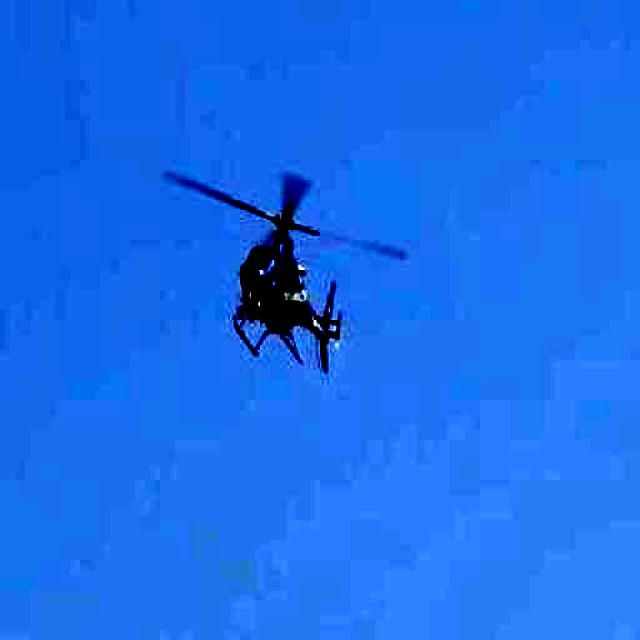drone: (130, 148, 416, 398)
